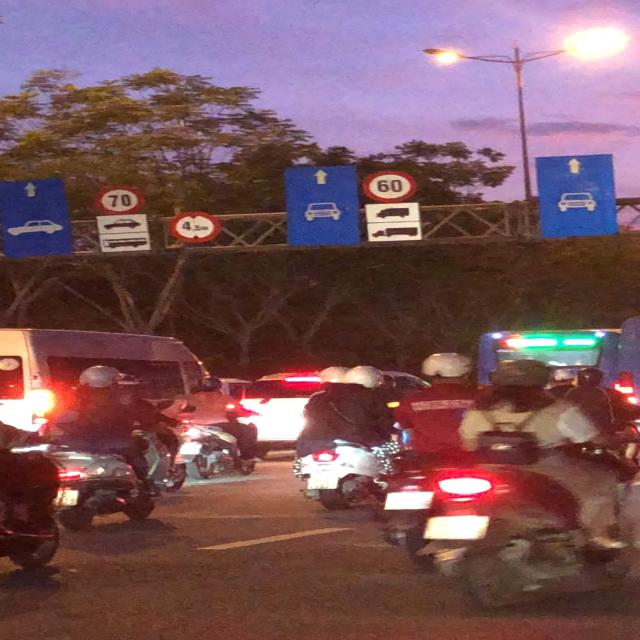Bien bao han che chieu cao: (169, 206, 221, 246)
Bien bao toc do toi da cho phep: (360, 166, 421, 204), (91, 182, 154, 218)
